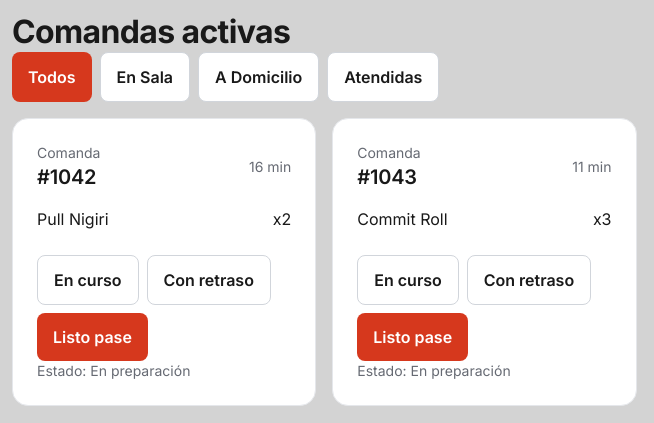
Scenario: KitchenOrderList › shows all orders again when all filter is selected
The image size is (654, 423).
Click the button "A Domicilio" at {"x": 259, "y": 77}, box [198,52,319,102]
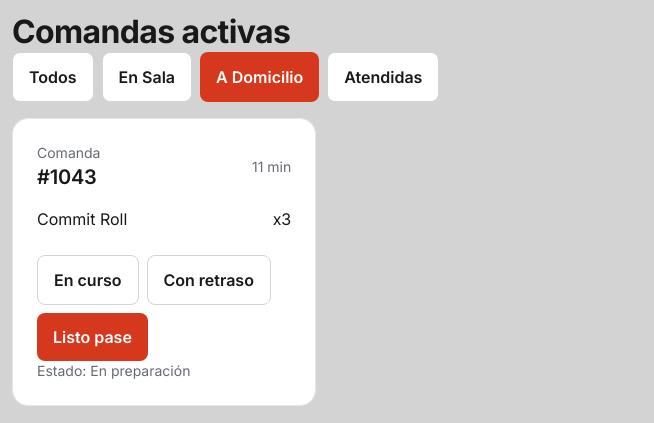
Click the button "Todos" at {"x": 53, "y": 77}, box [12,52,94,102]
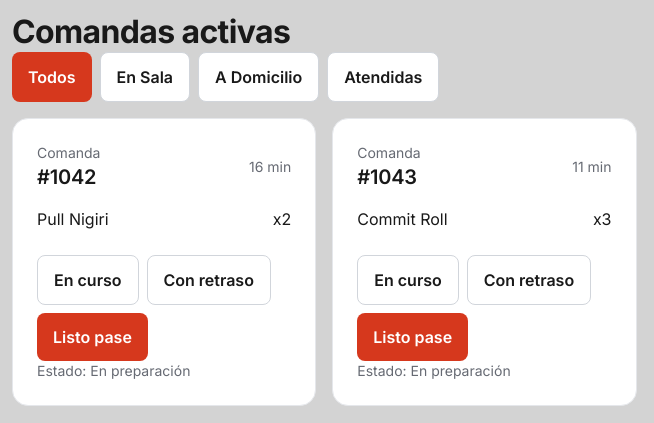
Check: the text "#1043" is shown, box [357,163,421,191]
Check: the text "#1042" is shown, box [37,163,100,191]
